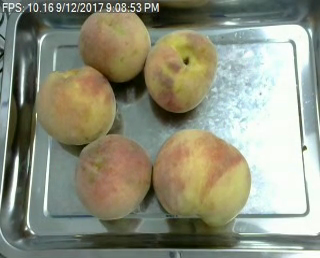Peach: (153, 128, 252, 224), (74, 134, 152, 219), (36, 66, 116, 145), (143, 29, 218, 113), (78, 5, 150, 82)
